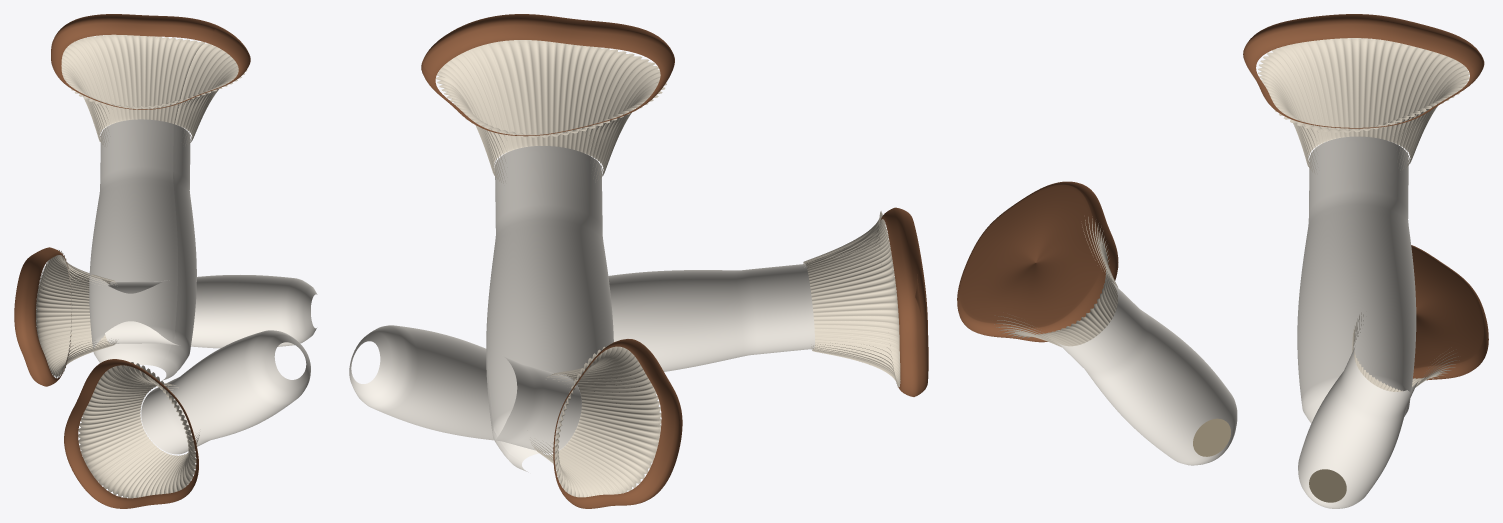
File: jamur_tiram_raja.glb
The picture shows the model from 3 angles, left to right: view 1: azimuth 30°, elevation 25°; view 2: azimuth 150°, elevation 25°; view 3: azimuth 270°, elevation 25°; orthographic projection. The views are drawn at different scales.
Parts seen in each view (by area): view 1: jamur_besar_stem, jamur_besar_gills, jamur_tengah_stem, jamur_tengah_gills, jamur_kecil_stem, jamur_kecil_gills, jamur_besar_cap, jamur_tengah_cap, jamur_kecil_cap; view 2: jamur_besar_stem, jamur_besar_gills, jamur_tengah_stem, jamur_kecil_stem, jamur_kecil_gills, jamur_tengah_gills, jamur_besar_cap, jamur_tengah_cap, jamur_kecil_cap; view 3: jamur_besar_stem, jamur_tengah_cap, jamur_besar_gills, jamur_tengah_stem, jamur_kecil_stem, jamur_kecil_cap, jamur_besar_cap, jamur_tengah_gills, jamur_tengah_base_cut, jamur_kecil_base_cut, jamur_kecil_gills.
Boxes of the visible parts, x1,y1,x2,y2 form: jamur_besar_stem: [89, 119, 196, 380]; jamur_besar_gills: [61, 34, 247, 146]; jamur_tengah_stem: [141, 330, 310, 454]; jamur_tengah_gills: [78, 362, 199, 498]; jamur_kecil_stem: [105, 275, 317, 348]; jamur_kecil_gills: [36, 250, 116, 378]; jamur_besar_cap: [51, 14, 250, 109]; jamur_tengah_cap: [64, 359, 198, 508]; jamur_kecil_cap: [14, 247, 71, 386]; jamur_besar_stem: [486, 146, 613, 472]; jamur_besar_gills: [436, 40, 666, 183]; jamur_tengah_stem: [608, 264, 814, 371]; jamur_kecil_stem: [349, 325, 581, 453]; jamur_kecil_gills: [531, 346, 661, 497]; jamur_tengah_gills: [803, 211, 900, 387]; jamur_besar_cap: [421, 14, 674, 136]; jamur_tengah_cap: [880, 207, 928, 396]; jamur_kecil_cap: [553, 339, 682, 508]; jamur_besar_stem: [1297, 136, 1416, 423]; jamur_tengah_cap: [957, 181, 1118, 342]; jamur_besar_gills: [1258, 38, 1469, 172]; jamur_tengah_stem: [1057, 282, 1237, 465]; jamur_kecil_stem: [1298, 347, 1418, 508]; jamur_kecil_cap: [1411, 245, 1488, 380]; jamur_besar_cap: [1243, 14, 1484, 128]; jamur_tengah_gills: [994, 217, 1117, 347]; jamur_tengah_base_cut: [1193, 418, 1230, 456]; jamur_kecil_base_cut: [1309, 469, 1346, 502]; jamur_kecil_gills: [1352, 312, 1459, 391].
Size of the model in its own units: 0.1631 by 0.1456 by 0.1839.
